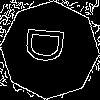D: (25, 25, 74, 66)
